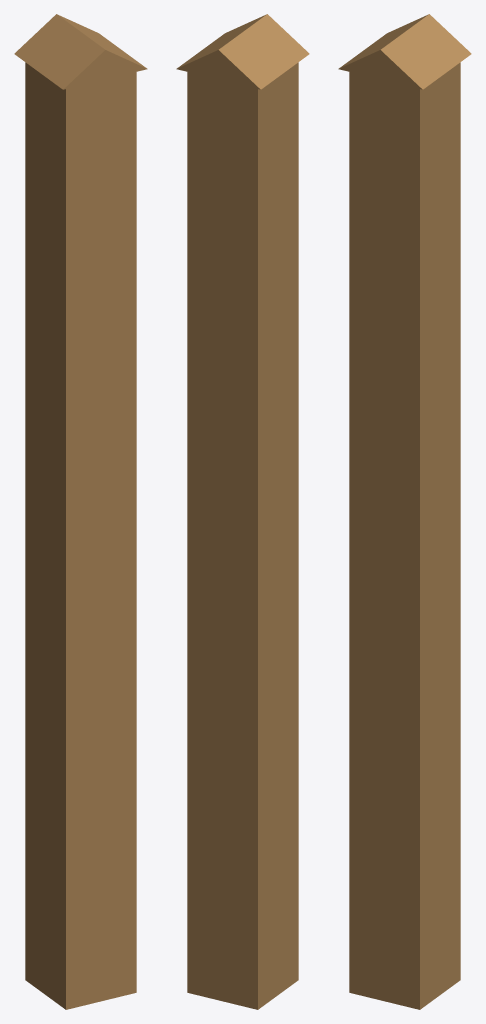
File: boundary.post.timber_1200.glb
The picture shows the model from 3 angles, left to right: view 1: azimuth 30°, elevation 25°; view 2: azimuth 150°, elevation 25°; view 3: azimuth 330°, elevation 25°; orthographic projection.
Parts seen in each view (by area): view 1: main__softwood; view 2: main__softwood; view 3: main__softwood.
Boxes of the visible parts, x1,y1,x2,y2 form: main__softwood: (14,14,147,1009); main__softwood: (176,14,309,1009); main__softwood: (338,14,471,1009).
Size of the model in its own units: 0.12 by 1.29 by 0.12.
